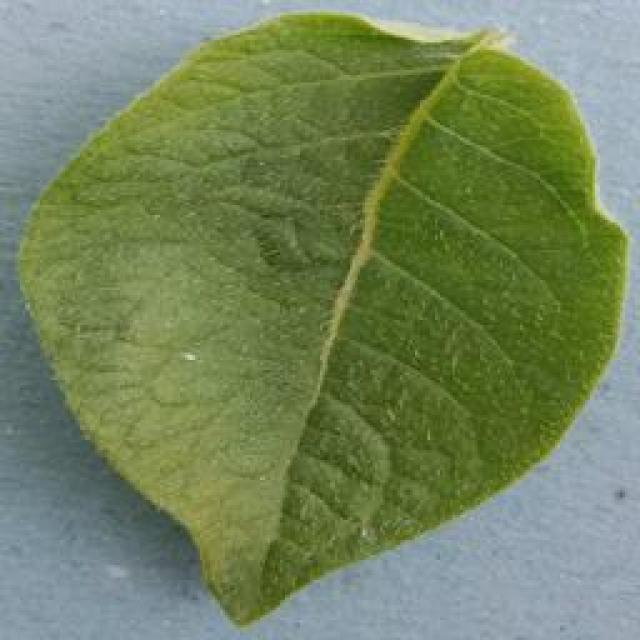Potato_Healthy: (18, 10, 618, 626)
